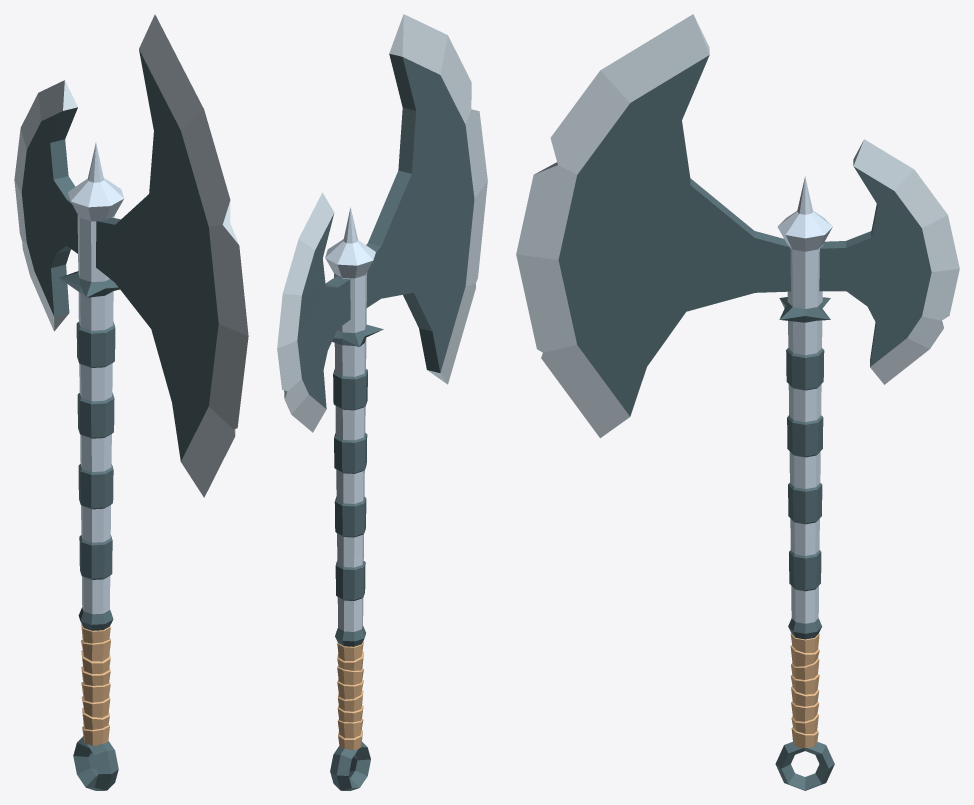
File: axe.fbx
The picture shows the model from 3 angles, left to right: view 1: azimuth 30°, elevation 25°; view 2: azimuth 150°, elevation 25°; view 3: azimuth 270°, elevation 25°; orthographic projection. The views are drawn at different scales.
Parts seen in each view (by area): view 1: Círculo.001, Círculo; view 2: Círculo.001, Círculo; view 3: Círculo.001, Círculo.
Part boxes in pixels (x1,y1,x2,y2): Círculo.001: [14, 14, 248, 790]; Círculo: [59, 142, 124, 745]; Círculo.001: [277, 14, 487, 790]; Círculo: [325, 207, 383, 750]; Círculo.001: [516, 14, 959, 790]; Círculo: [777, 176, 832, 748].
Size of the model in its own units: 37.87 by 585 by 303.
